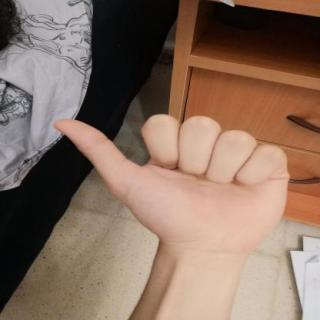DAD: (42, 102, 302, 271)
